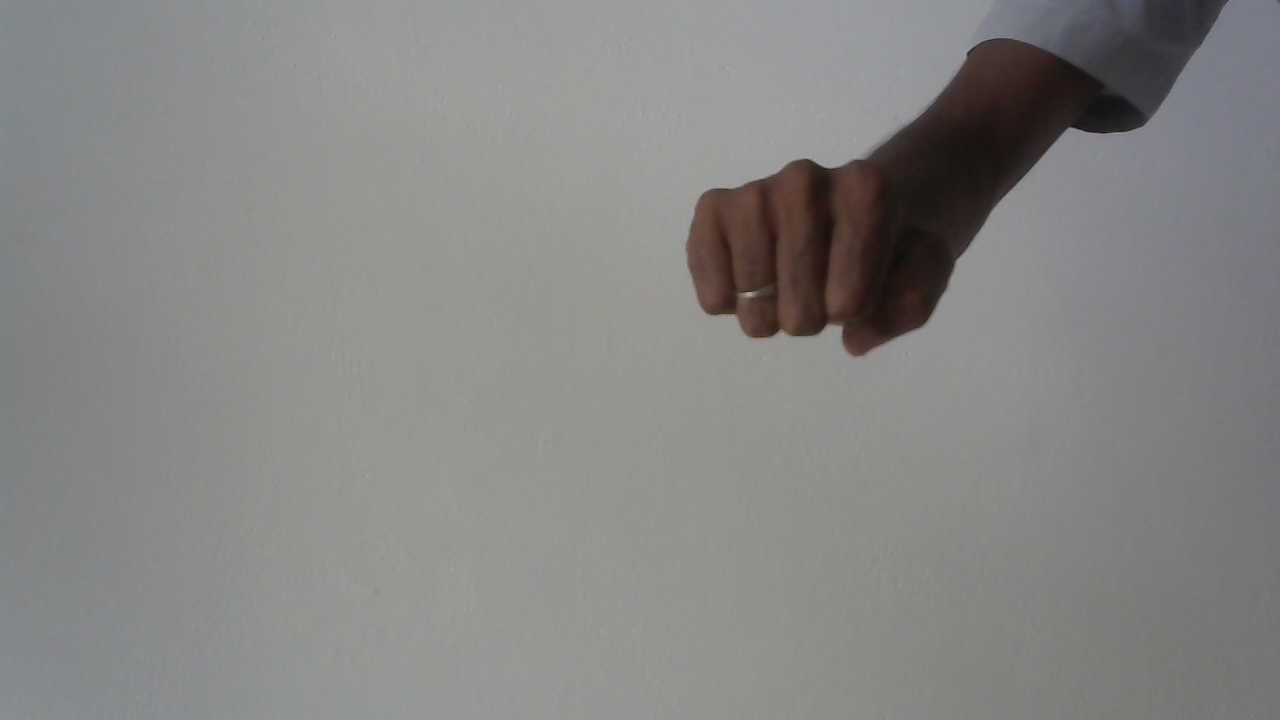yes: (669, 147, 973, 380)
